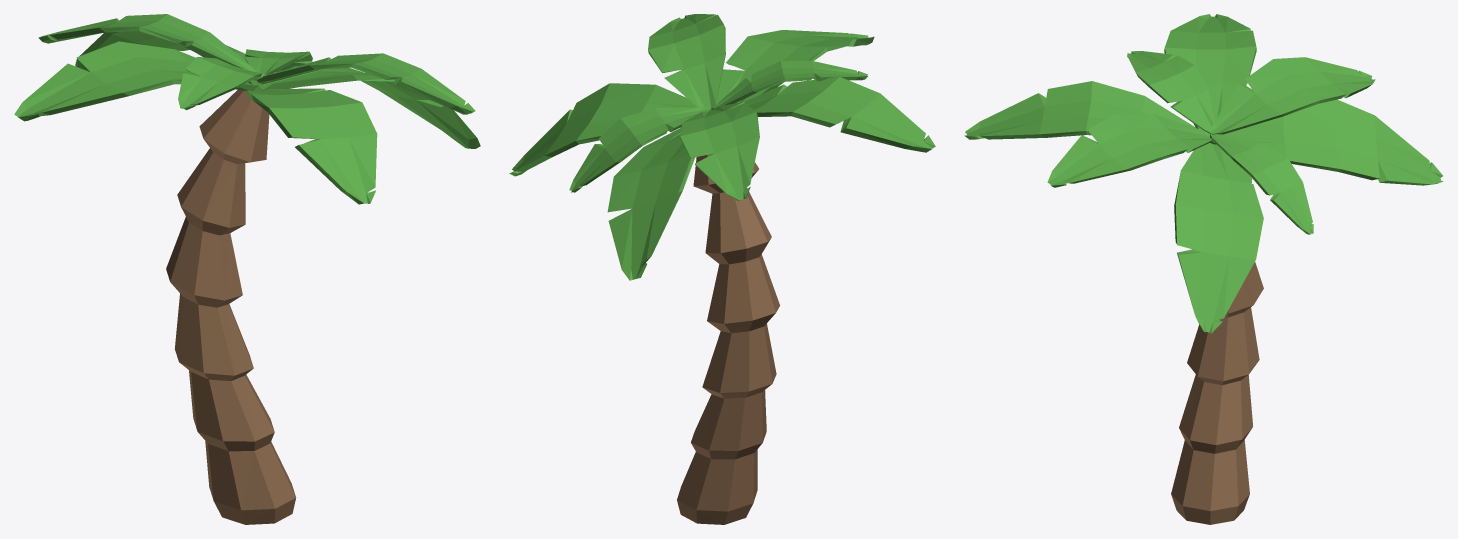
File: palm_tree.fbx
The picture shows the model from 3 angles, left to right: view 1: azimuth 30°, elevation 25°; view 2: azimuth 150°, elevation 25°; view 3: azimuth 270°, elevation 25°; orthographic projection. The views are drawn at different scales.
Parts seen in each view (by area): view 1: palm_tree_LOD0; view 2: palm_tree_LOD0; view 3: palm_tree_LOD0.
Boxes of the visible parts, <box> form: palm_tree_LOD0: <box>14,14,480,524</box>; palm_tree_LOD0: <box>509,14,935,524</box>; palm_tree_LOD0: <box>964,14,1443,524</box>.
Size of what is drawn, in the model's own units: 550 by 544 by 567.
